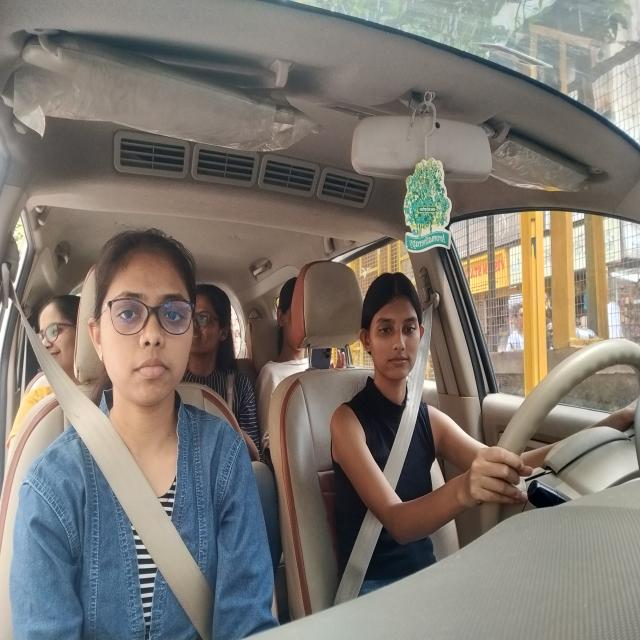person: (87, 232, 196, 405), (354, 270, 422, 389), (34, 295, 80, 366), (193, 275, 226, 366), (277, 272, 303, 358)
